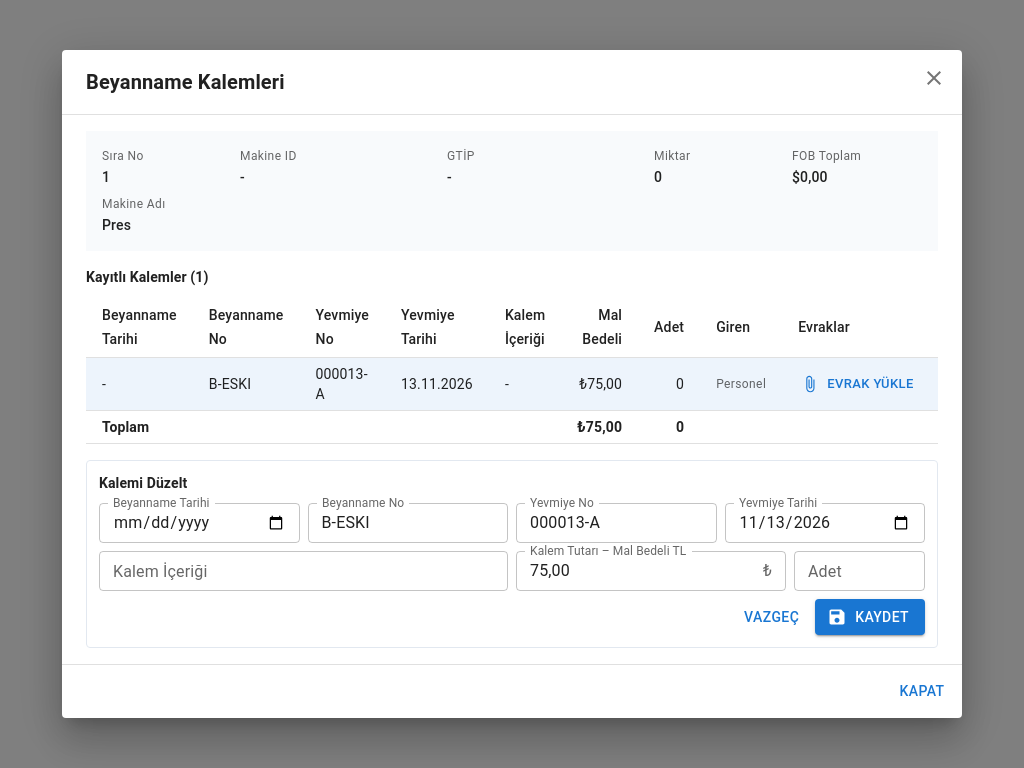
Test: personel kayıtlı yevmiye numarası ve tarihini düzenleyip temizleyebilir
Earlier steps of the test are not shown.
Clear the field labelled "Yevmiye No". click: (616,523)
box: [516,503,716,543]
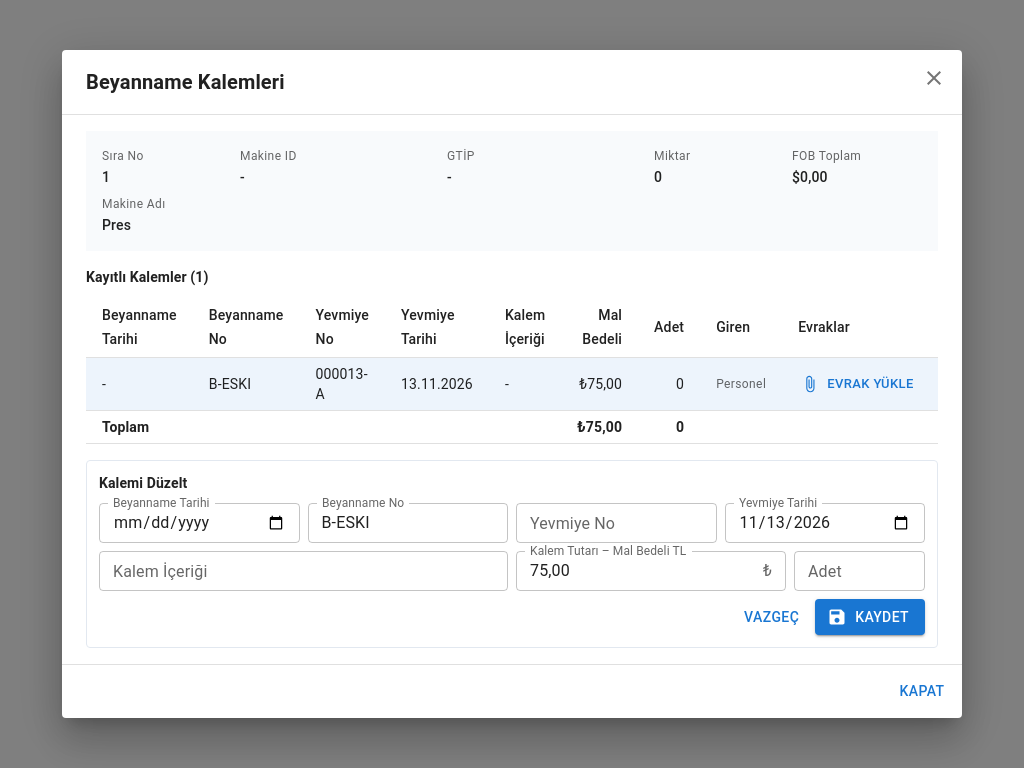
Clear the date field labelled "Yevmiye Tarihi". click: (825,523)
box: [724,503,925,543]
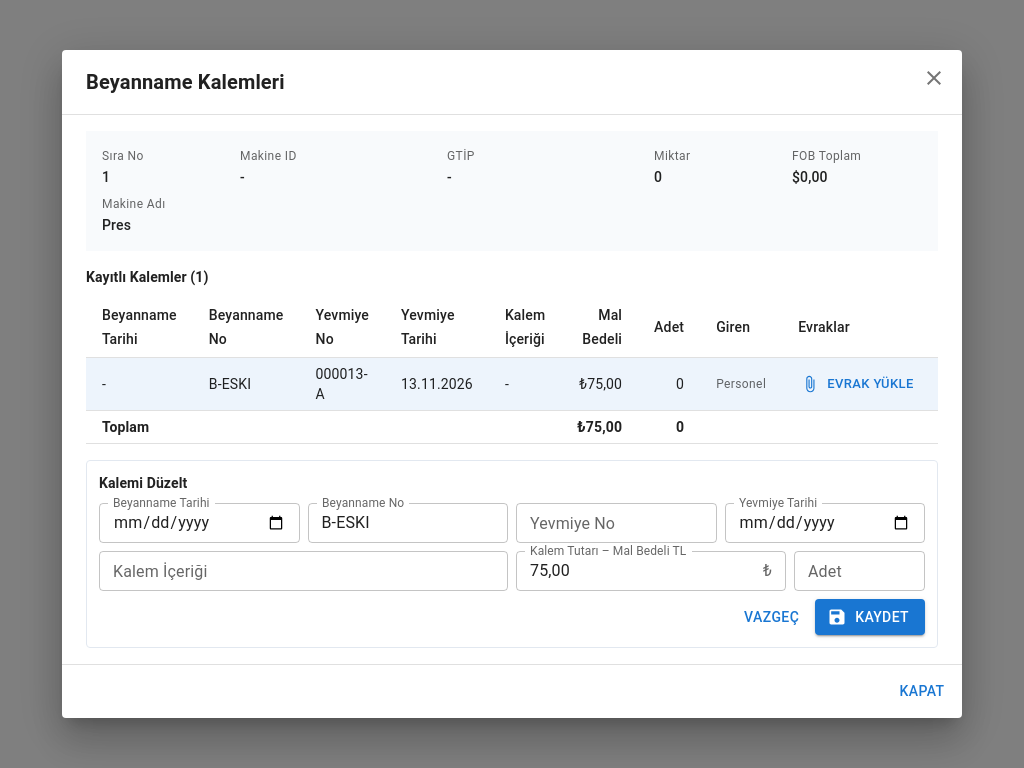
Click the button "Kaydet". click: (870,617)
box: [815,599,925,635]
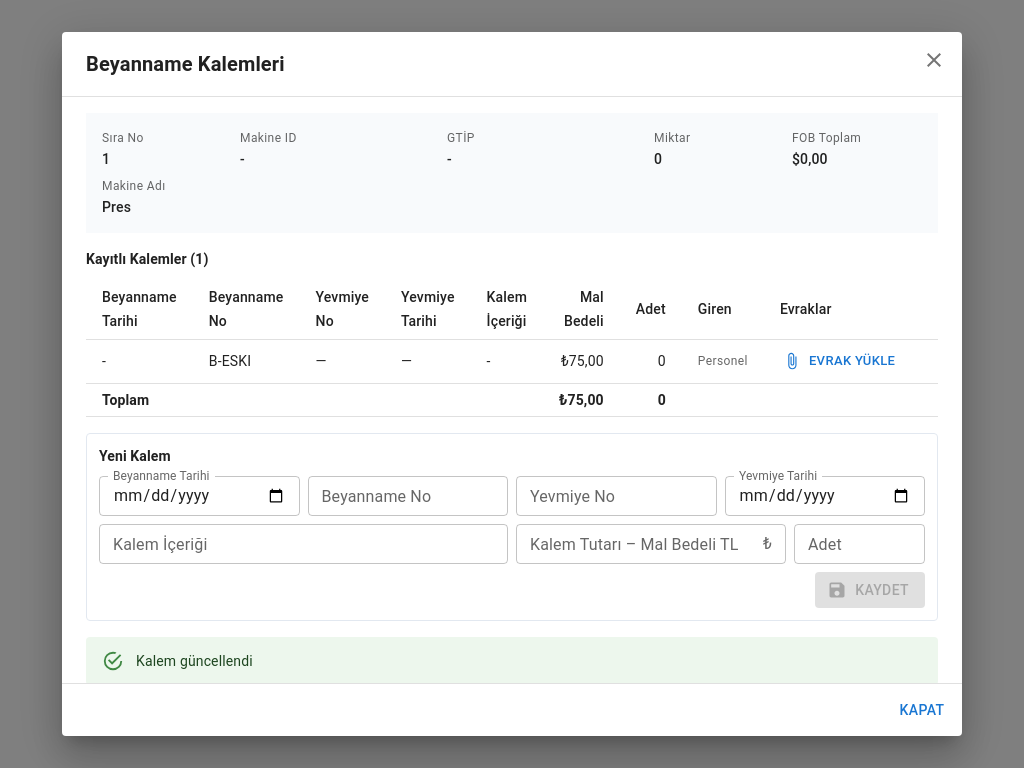
expect the cell "000013-A" is gone: met
expect the cell "13.11.2026" is gone: met
